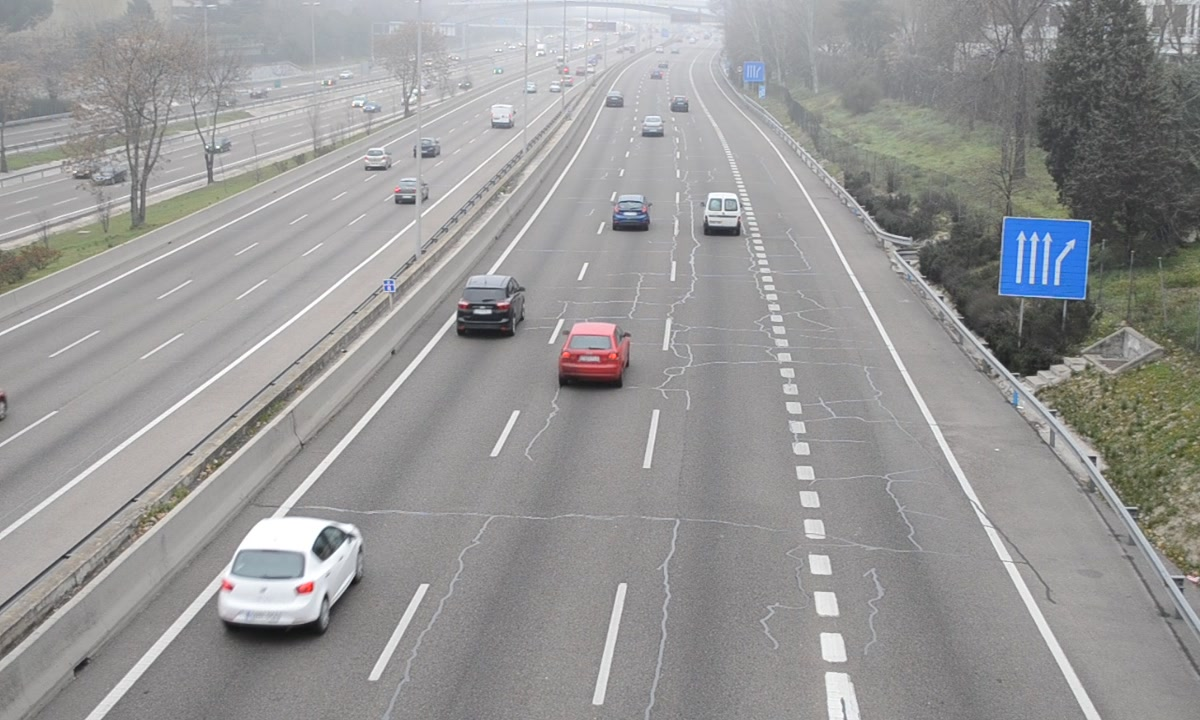car: (218, 518, 363, 627), (557, 323, 628, 381), (456, 276, 523, 334), (613, 195, 647, 230), (642, 115, 666, 138)
van: (703, 192, 743, 233)
